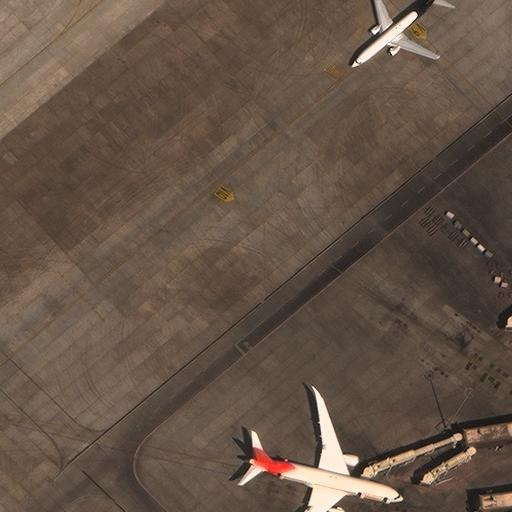Large Civil Transport: (248, 396, 404, 511)
Medium Civil Transport: (351, 0, 444, 66)
